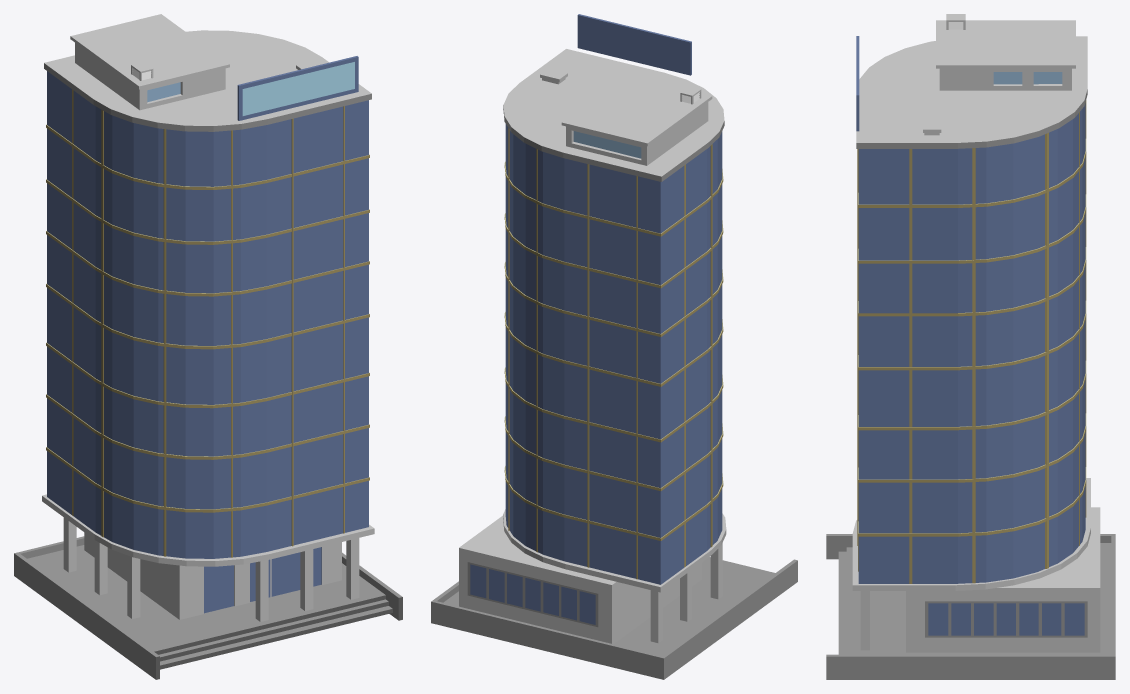
File: business_center_001.glb
3 renders of one model, left to right at view 1: azimuth 30°, elevation 25°; view 2: azimuth 150°, elevation 25°; view 3: azimuth 270°, elevation 25°, orthographic. The views are drawn at different scales.
Visible parts, largest first — view 1: business_center_001; view 2: business_center_001; view 3: business_center_001.
Part boxes in pixels (x1,y1,x2,y2): business_center_001: [14, 14, 402, 679]; business_center_001: [431, 14, 797, 679]; business_center_001: [826, 14, 1115, 679].
Bounding box in the file's own units: 14.44 × 31.29 × 14.39.
1 material, 1 textured.
